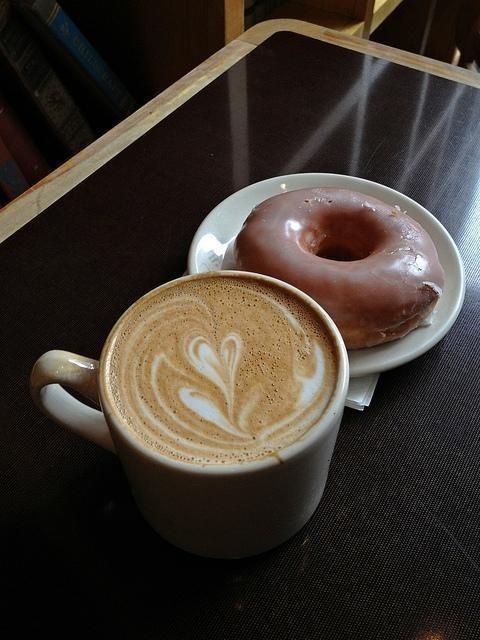cup-handle: (34, 271, 349, 560)
